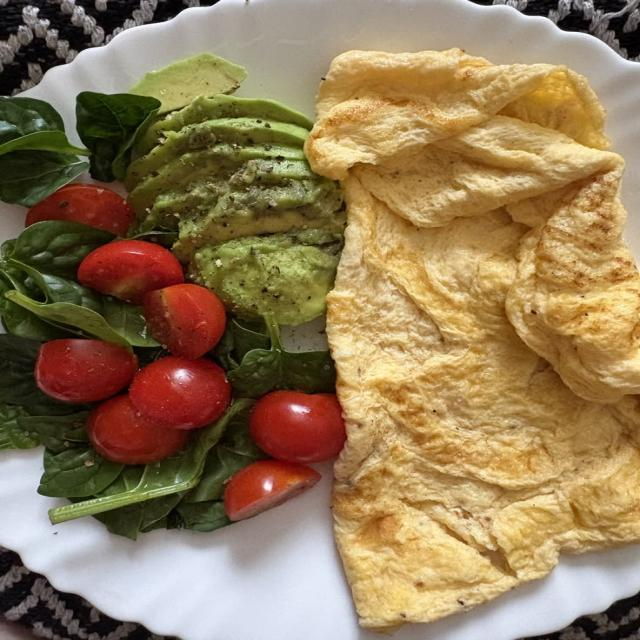omelette: (306, 49, 639, 630)
